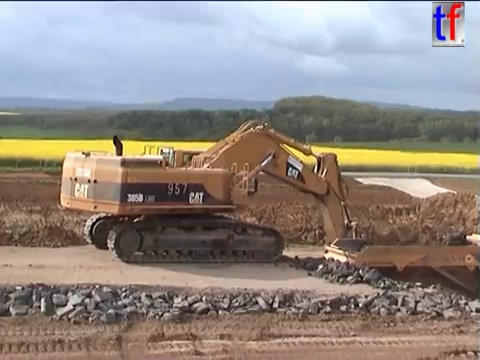excavator: (57, 117, 371, 293)
truck: (320, 230, 480, 328)
